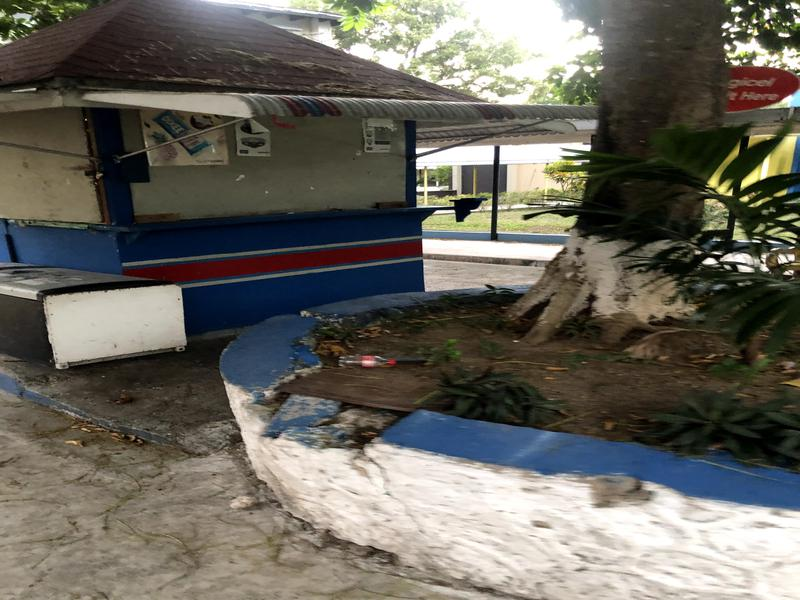18.0050609_-76.7496662_auntyjackie: (1, 5, 597, 374)
